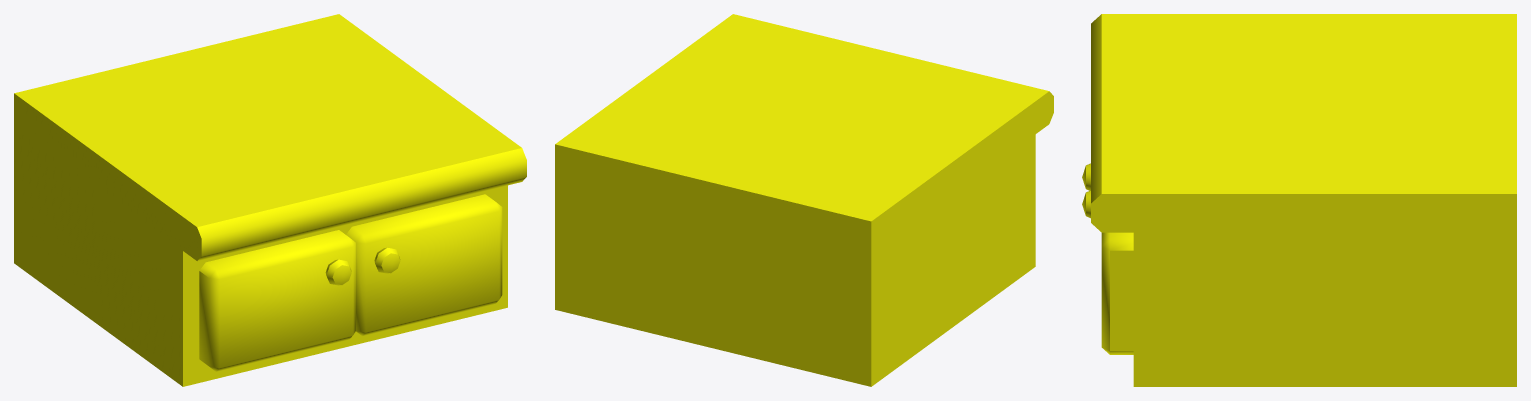
The model's file is kaykit-kitchencounter-straight-b.glb.
3 renders of one model, left to right at view 1: azimuth 30°, elevation 25°; view 2: azimuth 150°, elevation 25°; view 3: azimuth 270°, elevation 25°, orthographic. The views are drawn at different scales.
Visible parts, largest first — view 1: kitchencounter_straight_B; view 2: kitchencounter_straight_B; view 3: kitchencounter_straight_B.
Boxes of the visible parts, left/top/right/bottom form: kitchencounter_straight_B: left=14, top=14, right=526, bottom=386; kitchencounter_straight_B: left=555, top=14, right=1053, bottom=386; kitchencounter_straight_B: left=1082, top=14, right=1516, bottom=386.
Size of the model in its own units: 2 by 0.9999 by 2.04.
